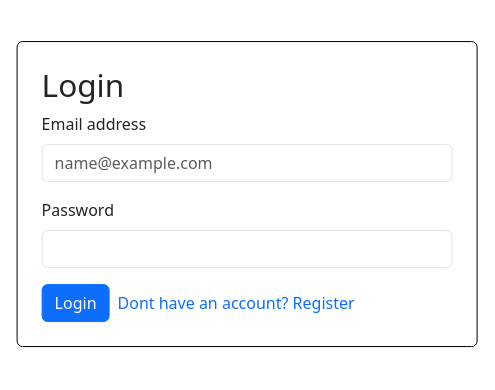
Test login for BlogIt application › Try to login with Invalid credentials
Step 1. Type "tehsgdvu" into the field labelled "Email address" → (248, 163), box [42,144,453,182]
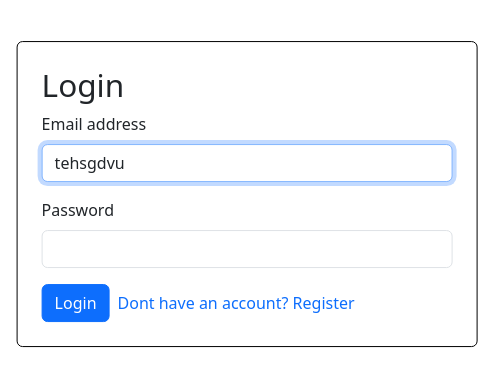
Step 2. Type "jywnbh" into the password field labelled "Password" → (248, 249), box [42,230,453,268]
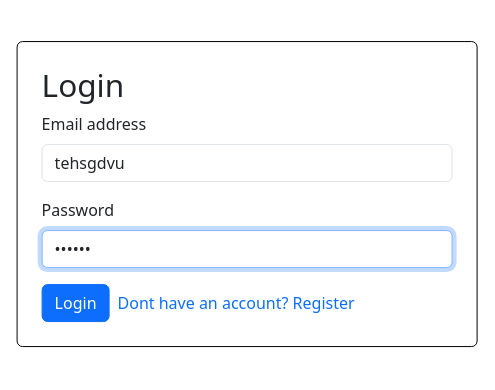
Step 3. Click the button "Login" → (76, 303), box [42,284,110,322]
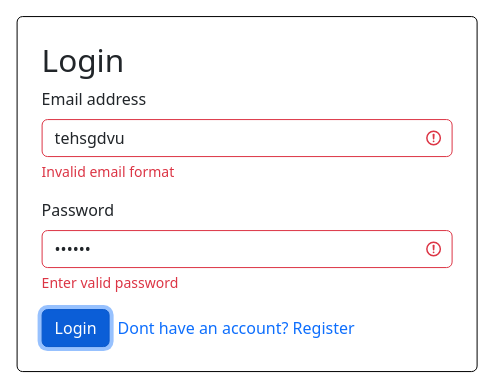
Result: the text "Enter valid password" is shown at [42,273,178,292]
